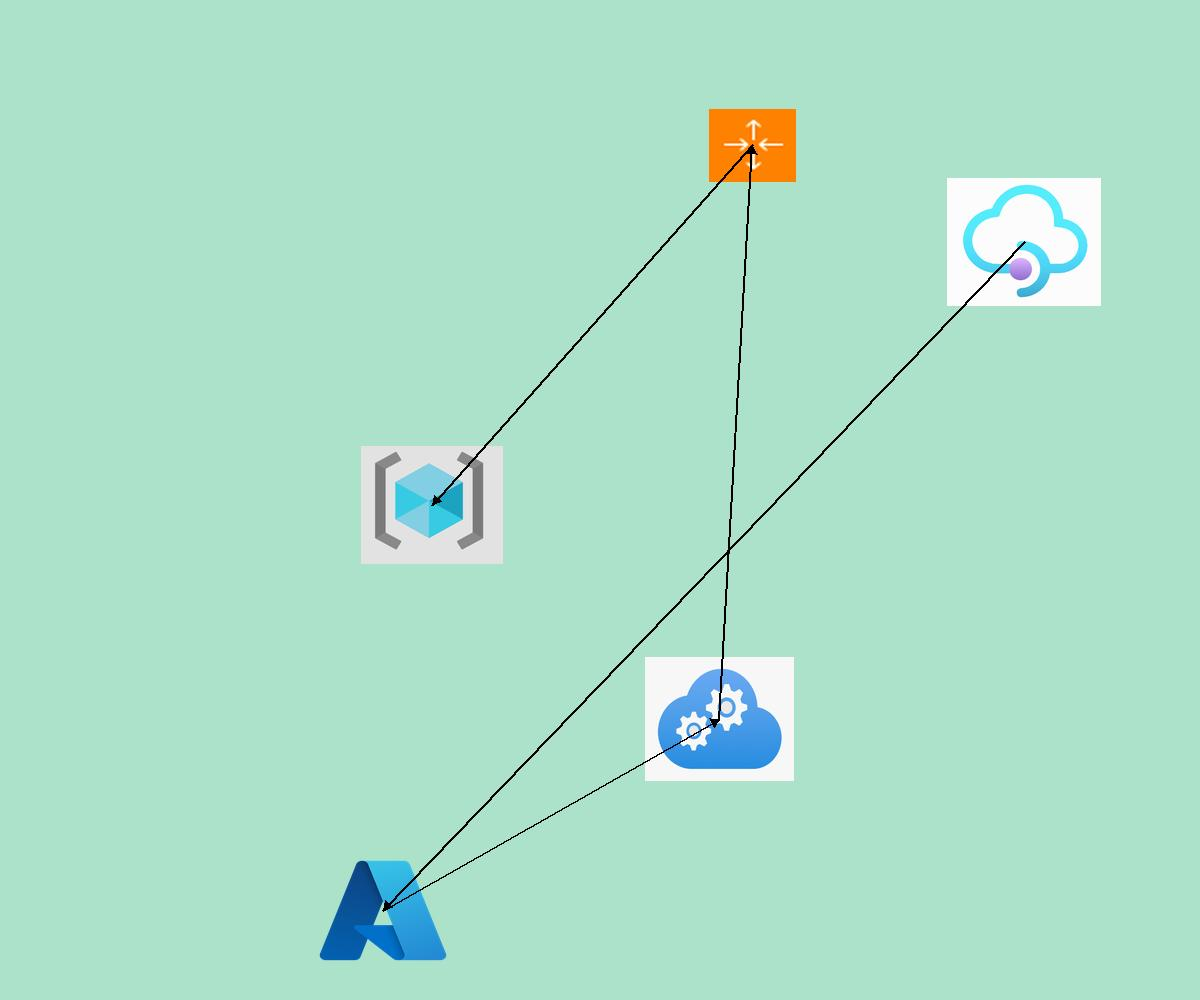AWS-Scaling-group: (709, 109, 796, 182)
Azure_api_gateway: (947, 178, 1101, 306)
Azure_cloud_services: (645, 657, 794, 781)
Azure_resource_group: (361, 446, 503, 564)
Azure_services: (314, 853, 452, 968)
